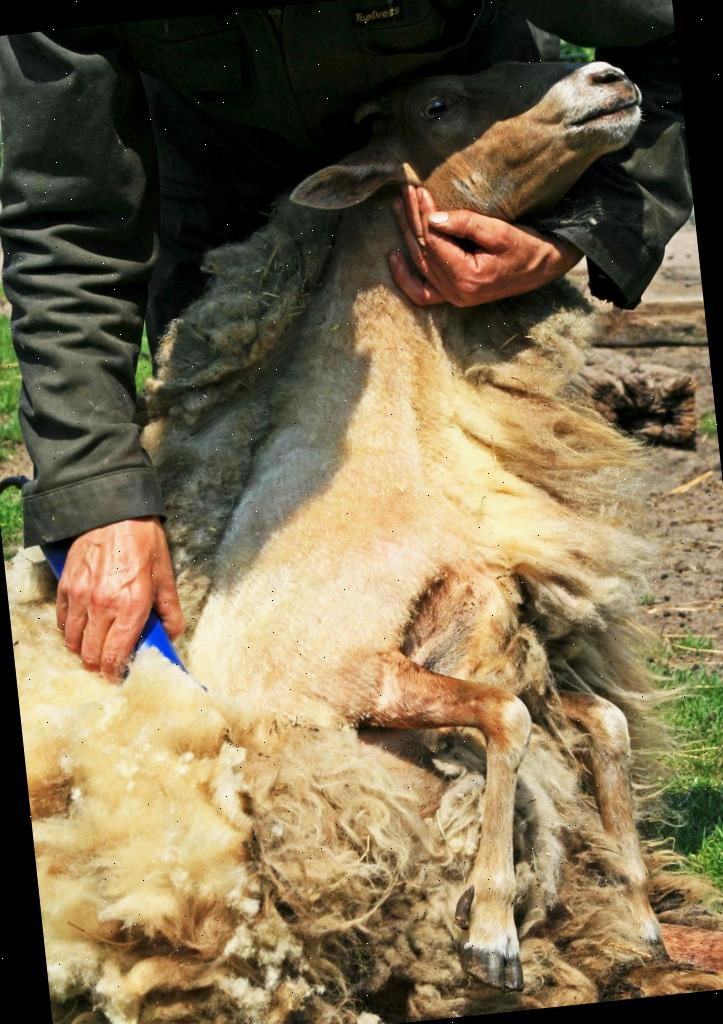Sheep: (0, 37, 723, 1024)
